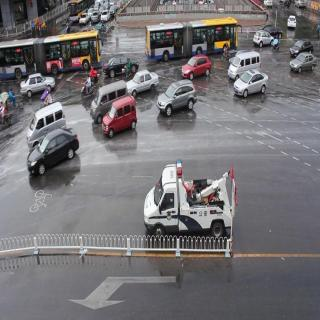BigCar: (142, 17, 239, 64), (0, 38, 102, 76), (66, 0, 88, 26)
Car: (122, 162, 244, 242), (24, 127, 83, 179), (152, 76, 200, 120), (96, 96, 142, 138), (26, 100, 67, 145), (232, 66, 274, 105), (87, 81, 130, 119), (226, 44, 262, 80), (17, 68, 54, 96), (101, 53, 140, 78), (180, 50, 212, 80), (123, 70, 161, 92), (287, 50, 315, 74), (250, 22, 274, 49), (290, 35, 313, 55), (263, 18, 281, 42), (287, 10, 298, 31), (100, 8, 110, 26)
